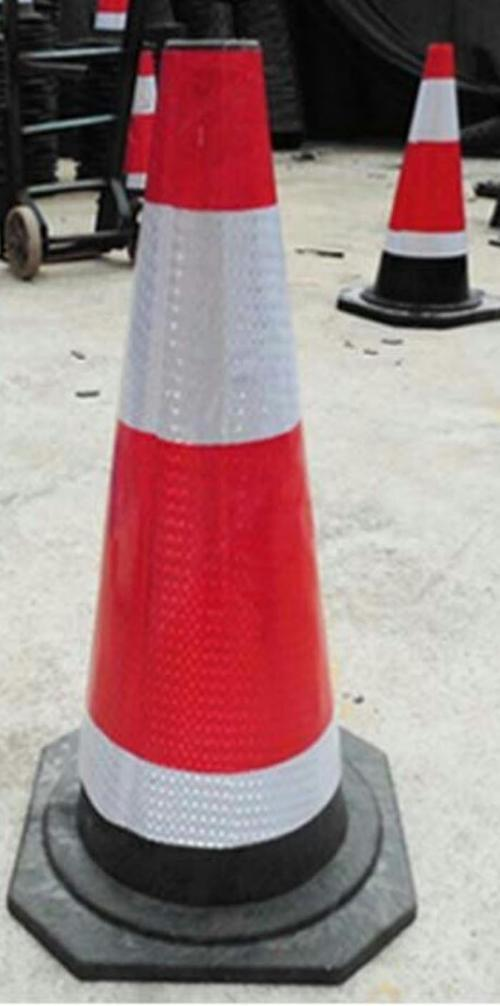cone_barrel: (67, 5, 361, 936), (351, 46, 485, 314), (112, 45, 162, 189)
